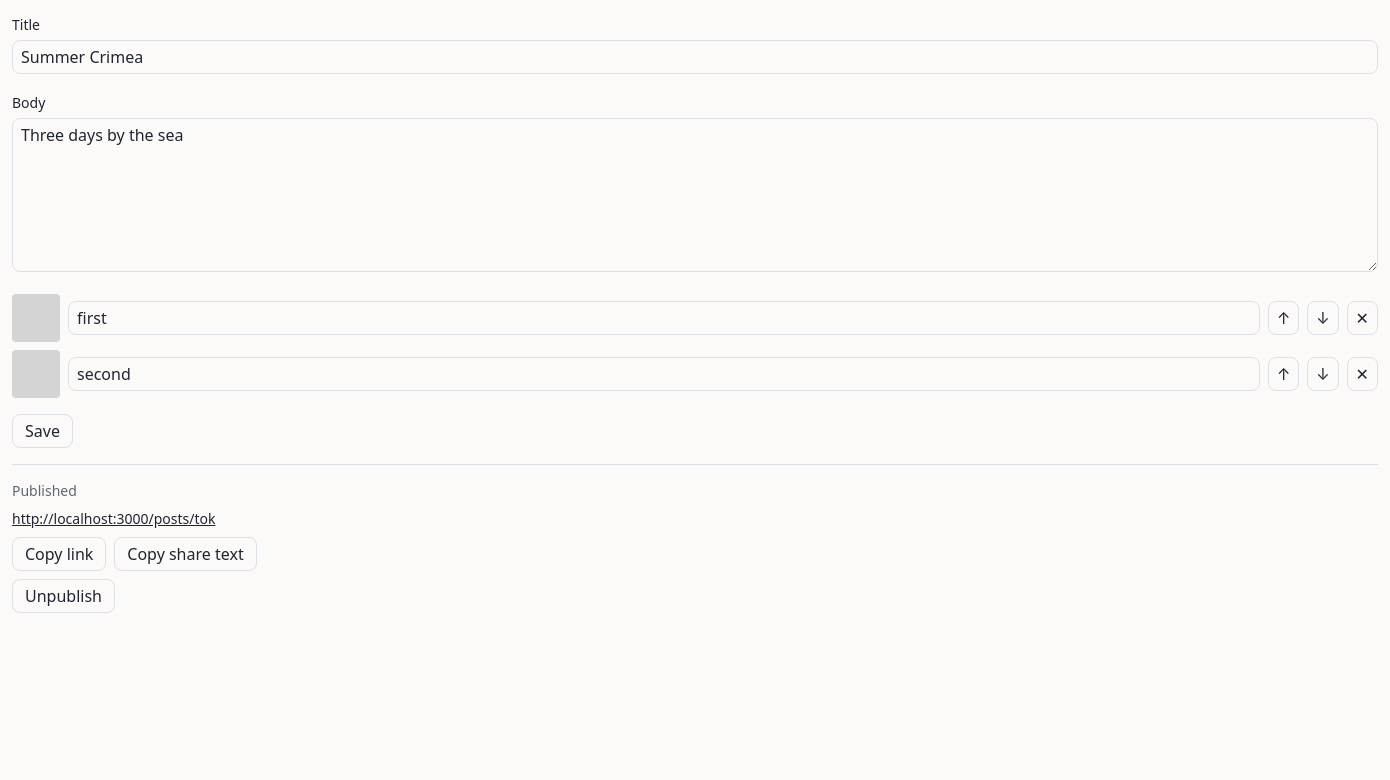
Test: PostEditor share (published) › Copy share text writes the full generated template
Click the button "Copy share text".
click(186, 554)  # box [114,537,257,571]
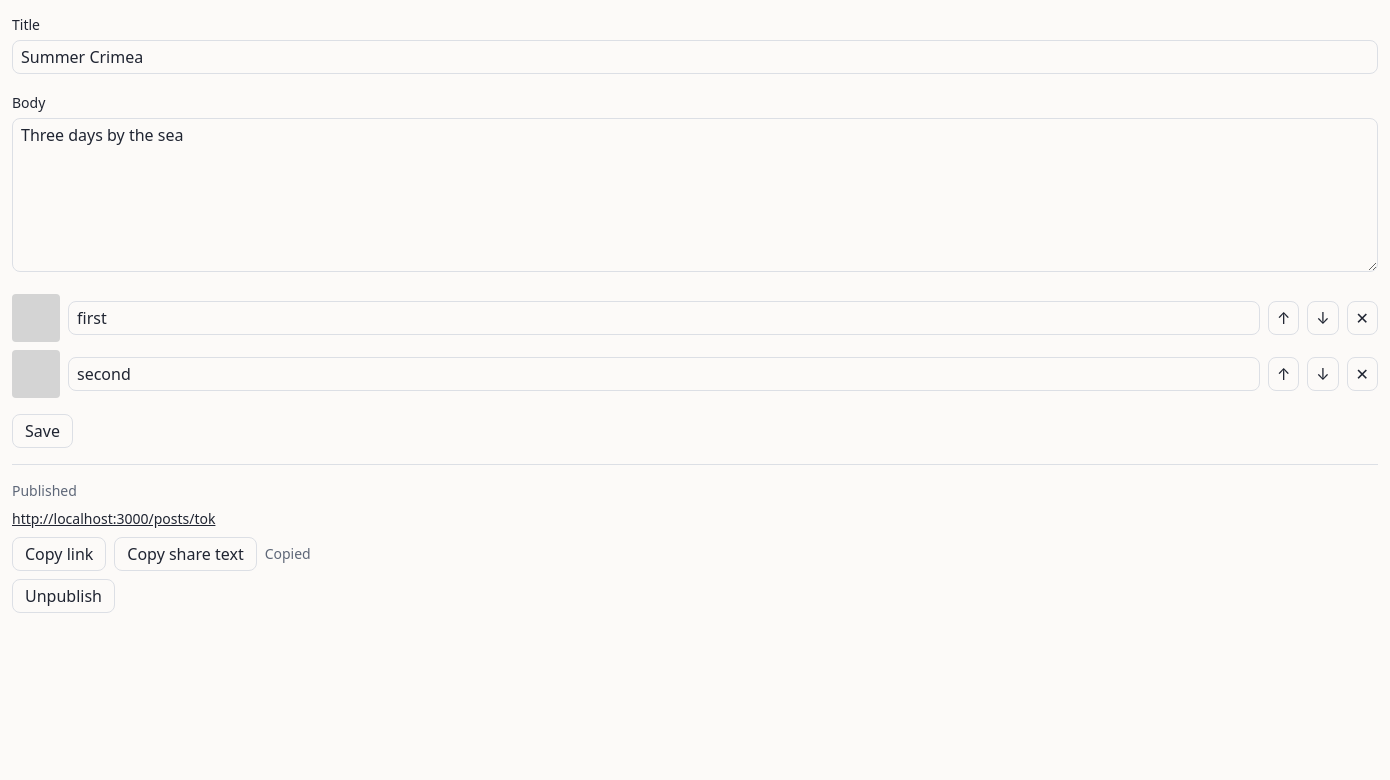
expect the text "Copied" is shown: met, box [265,544,311,564]
